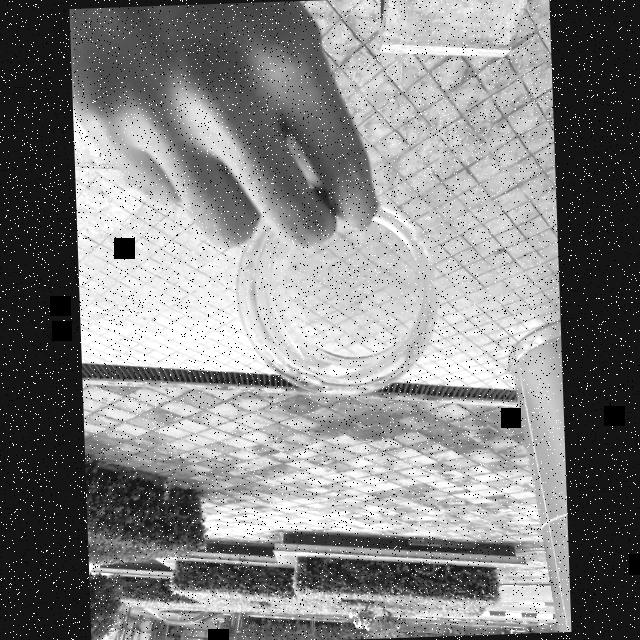plastic_cup_lid: (226, 190, 438, 403)
